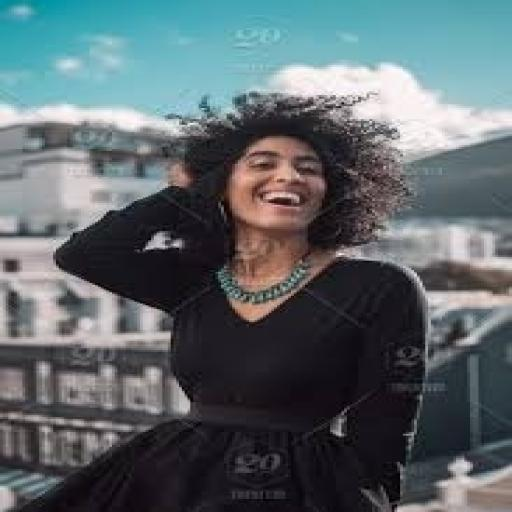laughing: (48, 86, 442, 508)
